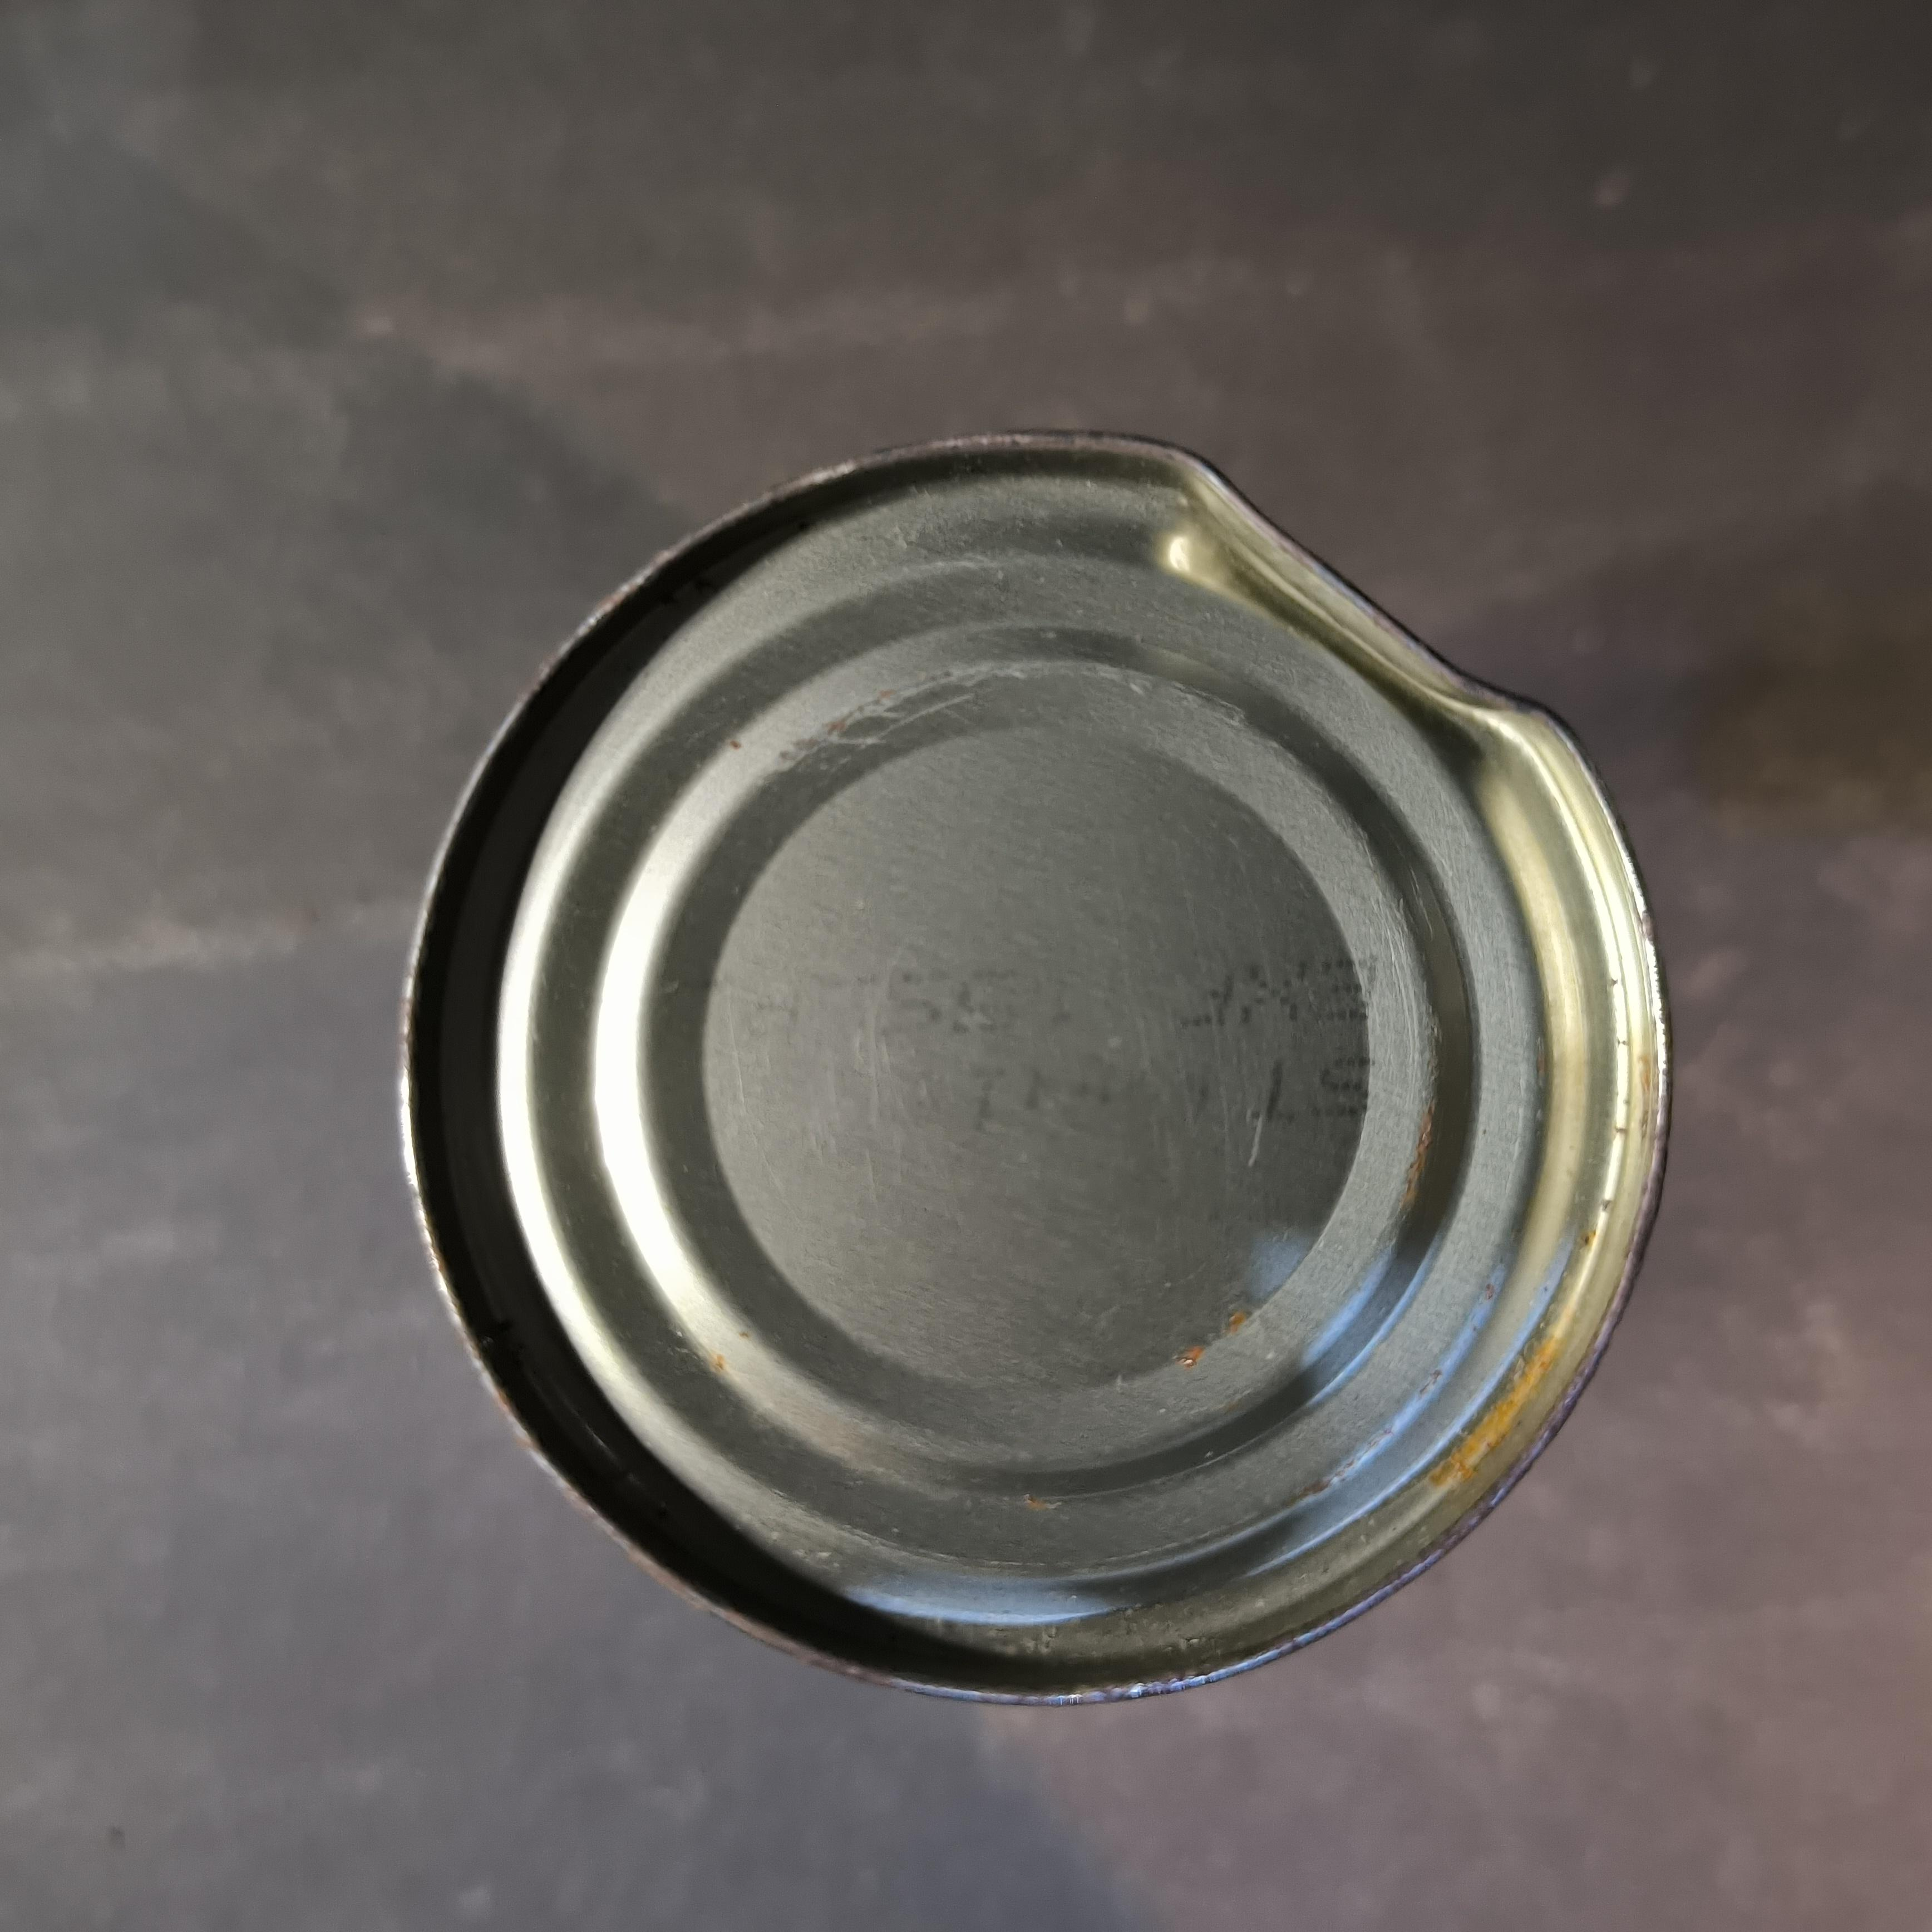Minor Defect: (398, 432, 1675, 1704)
